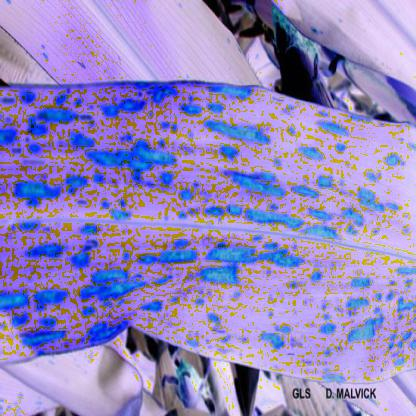Corn Gray leaf spot: (1, 69, 415, 383)
